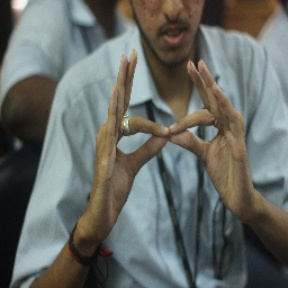B: (113, 103, 229, 178)
